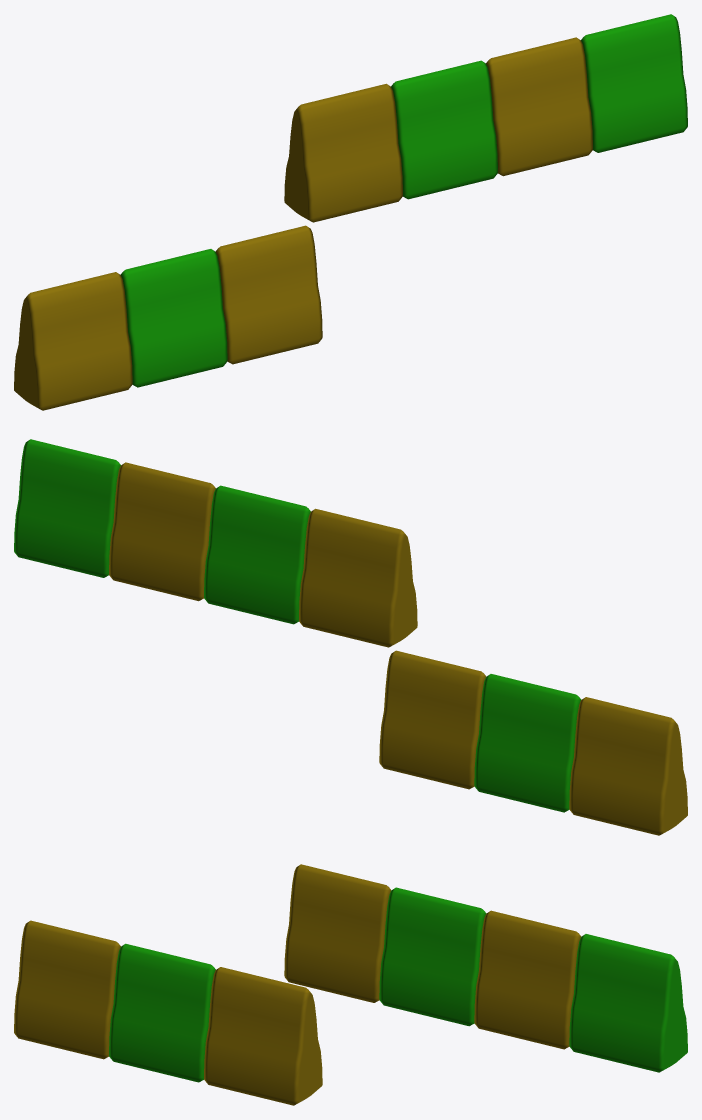
File: Roofs.fbx
3 views of the same model, one above another, from view 1: azimuth 30°, elevation 25°; view 2: azimuth 150°, elevation 25°; view 3: azimuth 330°, elevation 25° (orthographic).
Parts seen in each view (by area): view 1: Roofs; view 2: Roofs; view 3: Roofs.
Part boxes in pixels (bbox=[...]): Roofs: bbox=[14, 14, 687, 410]; Roofs: bbox=[14, 439, 687, 835]; Roofs: bbox=[14, 864, 687, 1105].
Bounding box in the file's own units: 2506 × 860 × 171.
